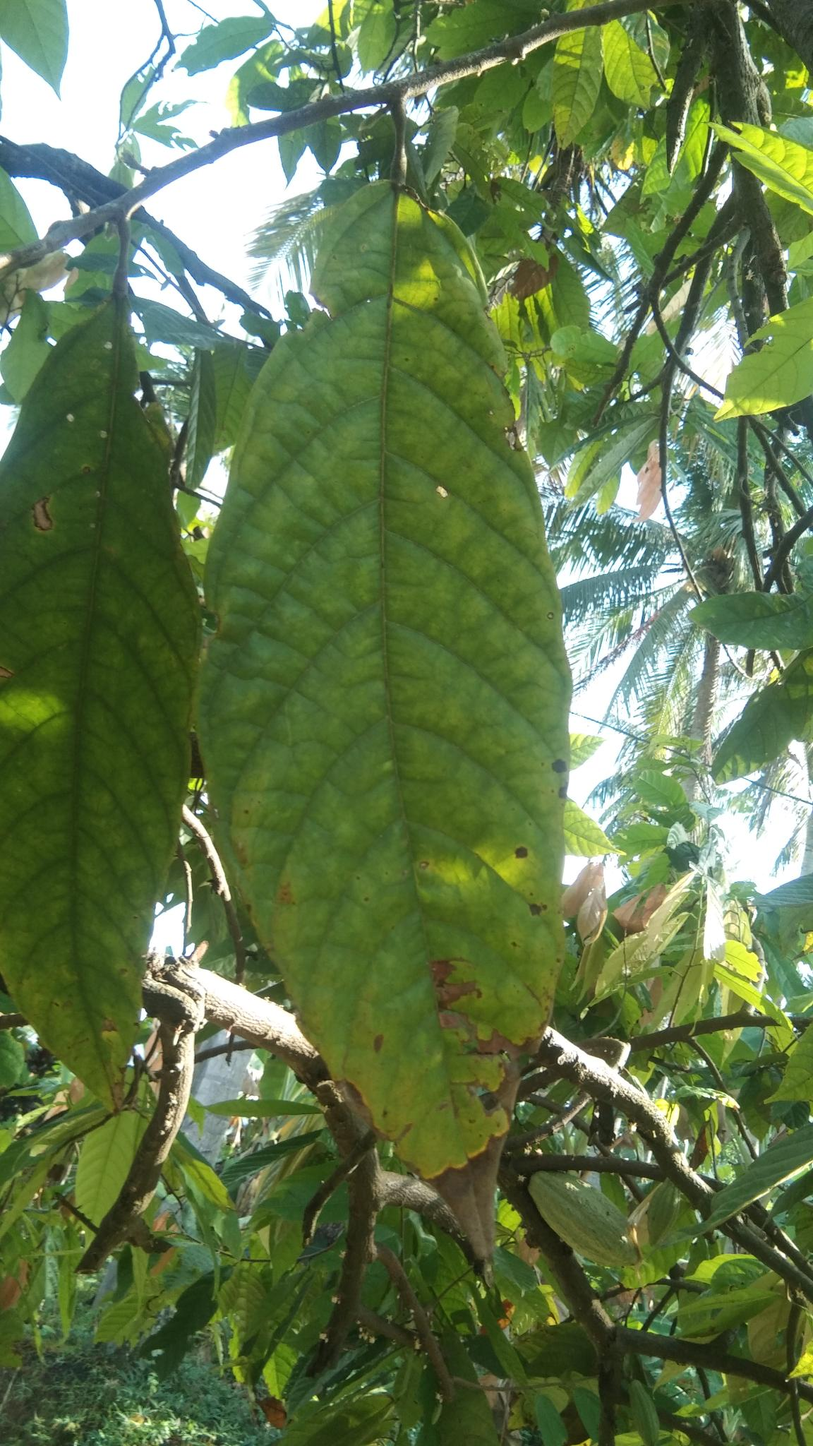Fosforo: (189, 133, 585, 1293)
